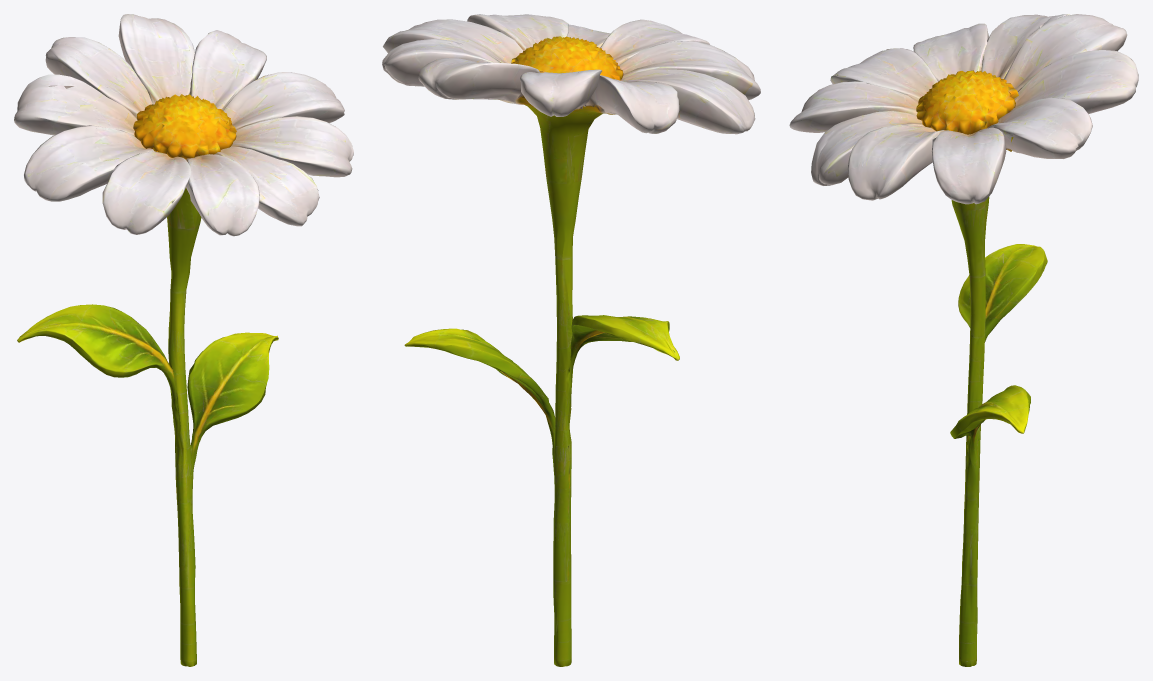
The model's file is daisy_white.glb.
The picture shows the model from 3 angles, left to right: view 1: azimuth 30°, elevation 25°; view 2: azimuth 150°, elevation 25°; view 3: azimuth 270°, elevation 25°; orthographic projection. The views are drawn at different scales.
Visible parts, largest first — view 1: geometry_0; view 2: geometry_0; view 3: geometry_0.
Boxes of the visible parts, box(x1,y1,x2,y2) form: geometry_0: box(14, 14, 353, 666); geometry_0: box(382, 14, 760, 666); geometry_0: box(789, 14, 1138, 666).
Bounding box in the file's own units: 0.5327 × 0.9517 × 0.4897.
Materials: 1 (1 with a texture image).
